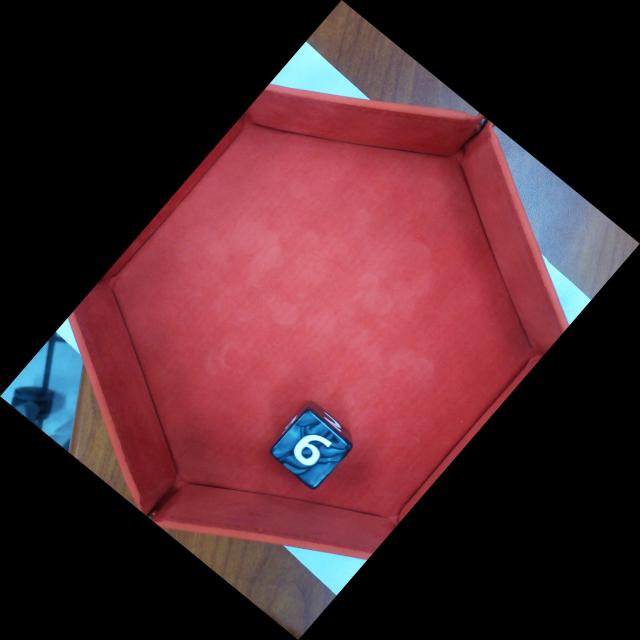dice: (267, 407, 353, 492)
